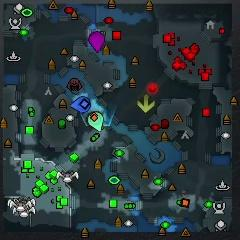p1: (69, 96, 92, 114)
p2: (87, 111, 104, 132)
p3: (89, 31, 106, 54)
x2: (137, 94, 156, 114)
